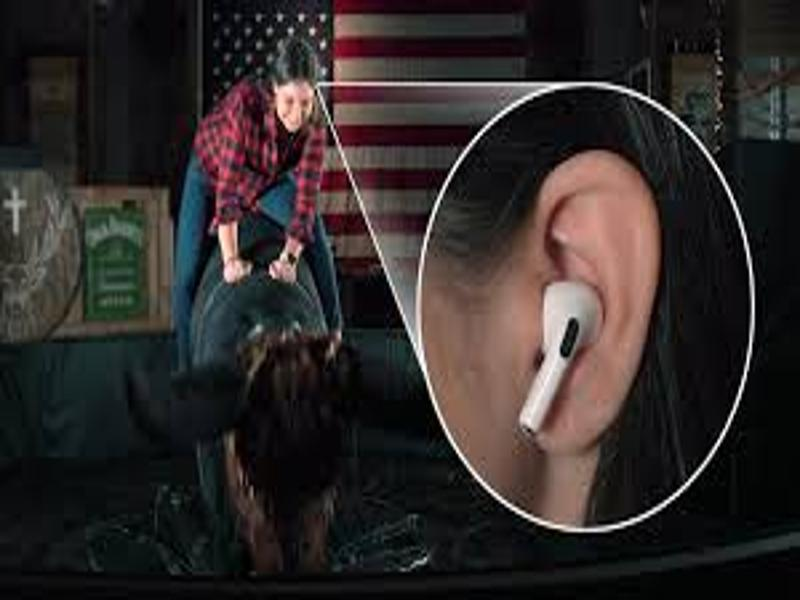headphone: (513, 279, 606, 438)
